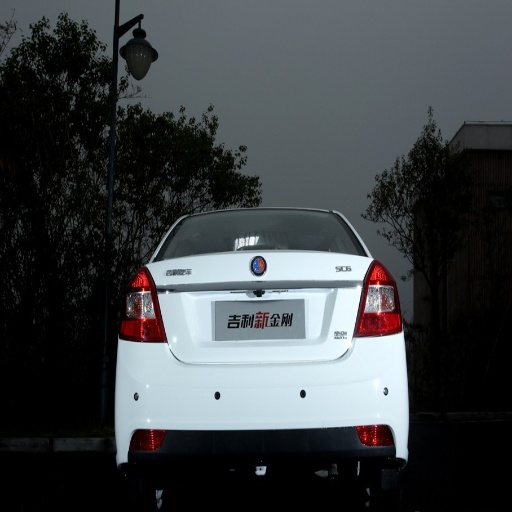back_bumper: (117, 334, 405, 500)
